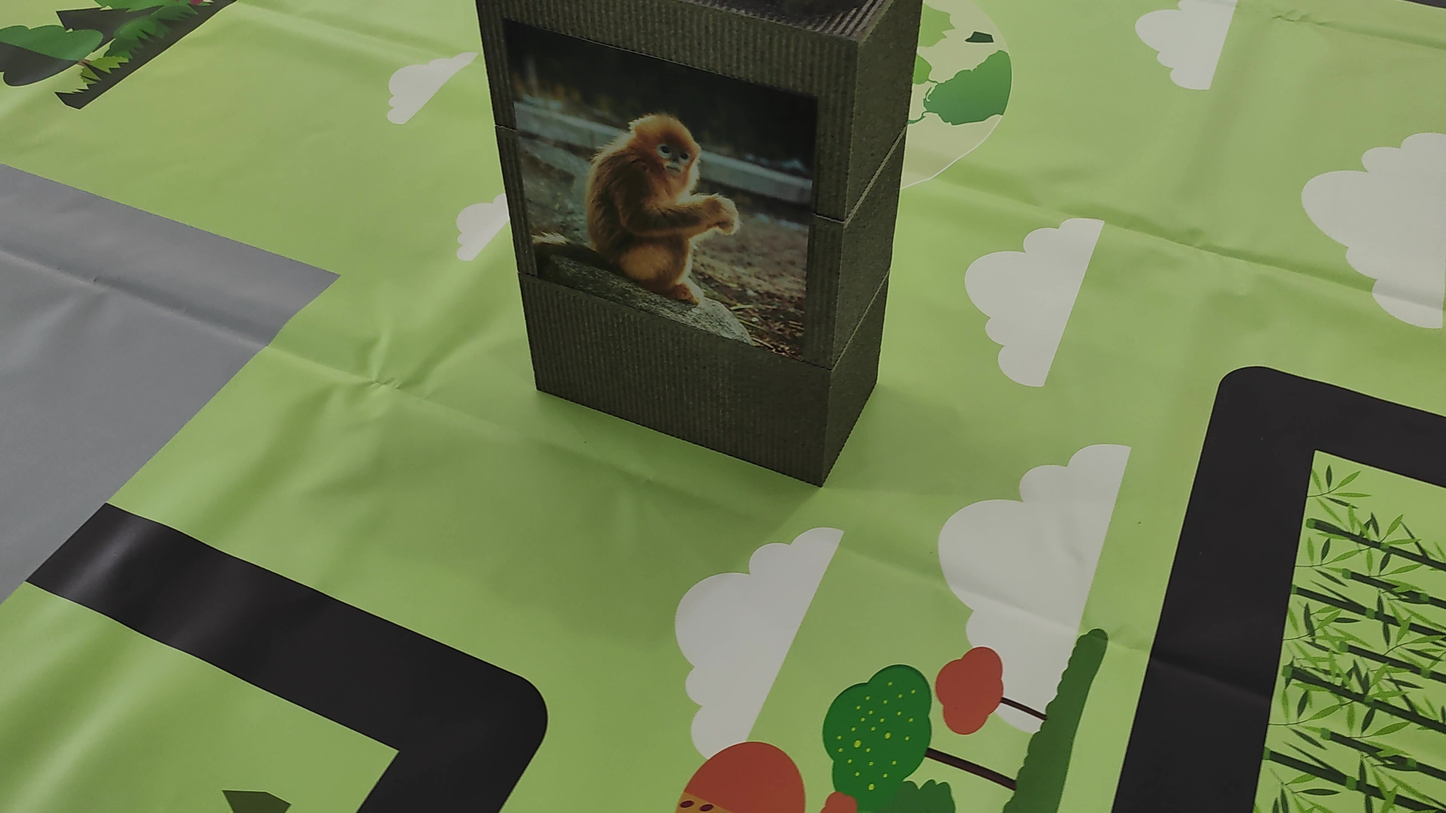monkey: (555, 88, 817, 333)
